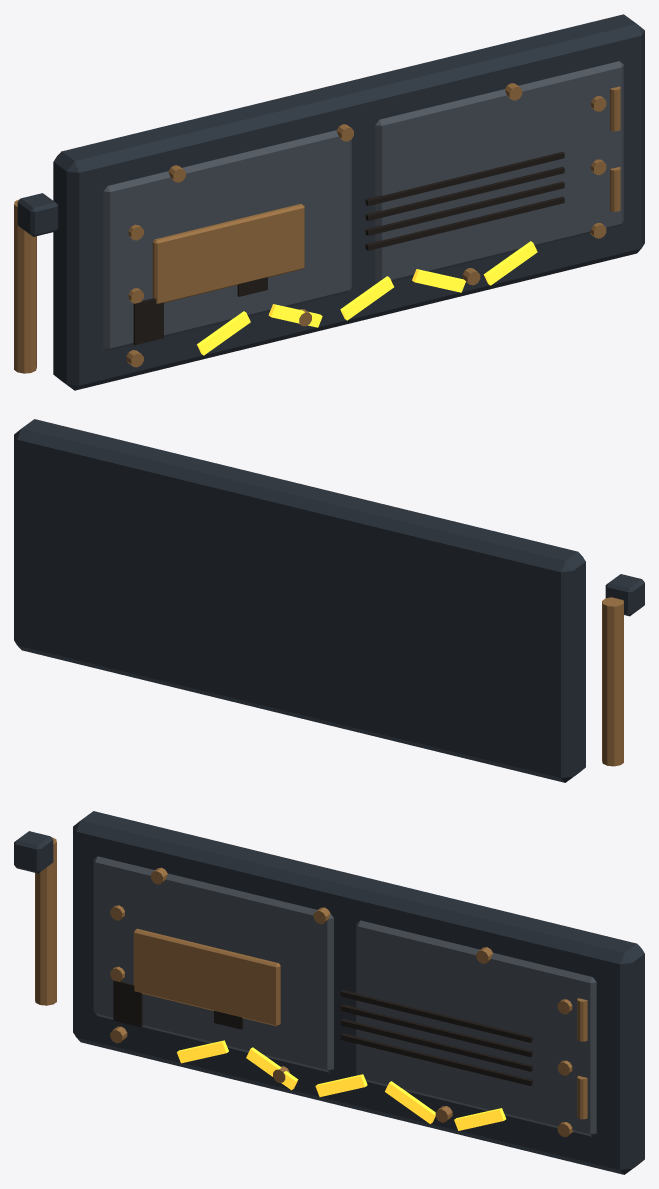
Rendered from runtime.glb.
3 renders of one model, top to bottom at view 1: azimuth 30°, elevation 25°; view 2: azimuth 150°, elevation 25°; view 3: azimuth 330°, elevation 25°, orthographic. The views are drawn at different scales.
Parts seen in each view (by area): view 1: kinetic-tide-maintenance-panel-v03_plate_nocol, kinetic-tide-maintenance-panel-v03_steel_nocol, kinetic-tide-maintenance-panel-v03_bronze_nocol, kinetic-tide-maintenance-panel-v03_weardark_nocol, kinetic-tide-maintenance-panel-v03_warningorange_nocol; view 2: kinetic-tide-maintenance-panel-v03_steel_nocol, kinetic-tide-maintenance-panel-v03_bronze_nocol; view 3: kinetic-tide-maintenance-panel-v03_plate_nocol, kinetic-tide-maintenance-panel-v03_steel_nocol, kinetic-tide-maintenance-panel-v03_bronze_nocol, kinetic-tide-maintenance-panel-v03_weardark_nocol, kinetic-tide-maintenance-panel-v03_warningorange_nocol.
Part boxes in pixels (left/top/right/bottom): kinetic-tide-maintenance-panel-v03_plate_nocol: left=103, top=61, right=623, bottom=350; kinetic-tide-maintenance-panel-v03_steel_nocol: left=17, top=14, right=644, bottom=390; kinetic-tide-maintenance-panel-v03_bronze_nocol: left=14, top=83, right=620, bottom=373; kinetic-tide-maintenance-panel-v03_weardark_nocol: left=133, top=151, right=564, bottom=345; kinetic-tide-maintenance-panel-v03_warningorange_nocol: left=197, top=241, right=537, bottom=355; kinetic-tide-maintenance-panel-v03_steel_nocol: left=14, top=419, right=644, bottom=782; kinetic-tide-maintenance-panel-v03_bronze_nocol: left=602, top=597, right=623, bottom=766; kinetic-tide-maintenance-panel-v03_plate_nocol: left=93, top=856, right=596, bottom=1136; kinetic-tide-maintenance-panel-v03_steel_nocol: left=14, top=811, right=644, bottom=1174; kinetic-tide-maintenance-panel-v03_bronze_nocol: left=35, top=837, right=587, bottom=1136; kinetic-tide-maintenance-panel-v03_weardark_nocol: left=113, top=980, right=532, bottom=1086; kinetic-tide-maintenance-panel-v03_warningorange_nocol: left=177, top=1040, right=506, bottom=1130.
Size of the model in its own units: 6.29 by 2.2 by 0.5554.
